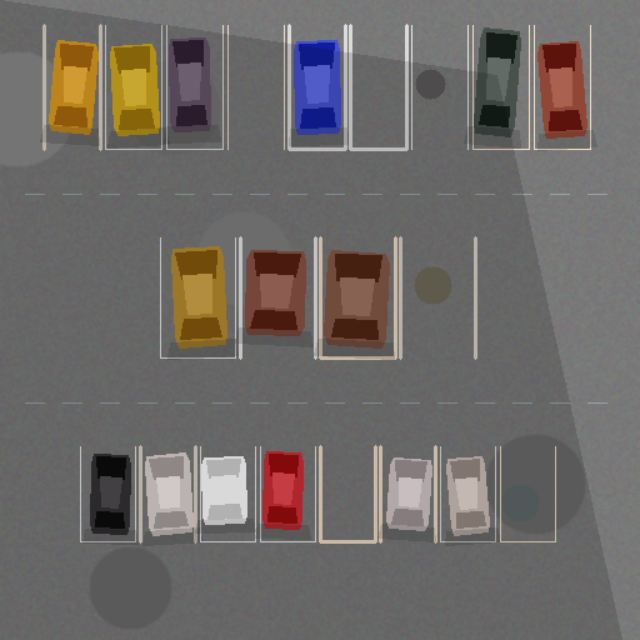space-empty: (400, 238, 475, 358), (227, 25, 284, 149), (350, 25, 406, 149), (411, 25, 467, 149), (320, 446, 375, 541), (500, 446, 555, 541)
space-occupied: (160, 238, 235, 358), (240, 238, 315, 358), (320, 238, 395, 358), (166, 25, 223, 149), (44, 25, 100, 149), (105, 25, 161, 149), (289, 25, 345, 149), (473, 25, 529, 149), (534, 25, 590, 149), (80, 446, 135, 541), (140, 446, 195, 541), (200, 446, 255, 541), (260, 446, 315, 541), (380, 446, 435, 541), (440, 446, 495, 541)
